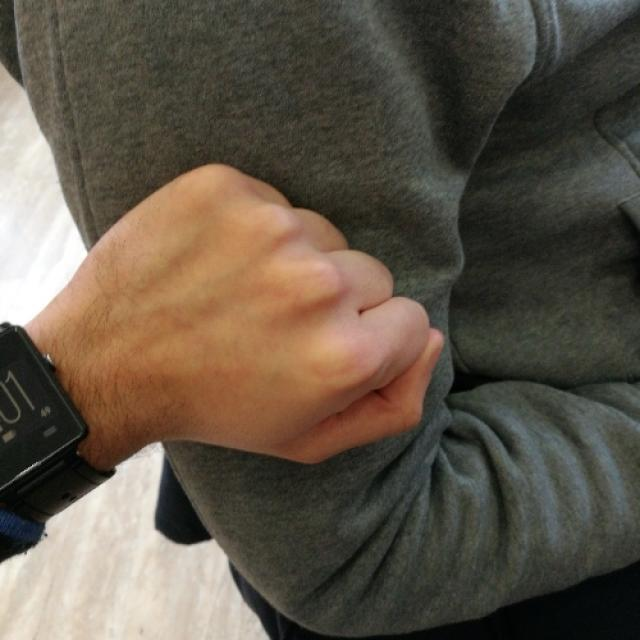rock: (76, 164, 446, 465)
